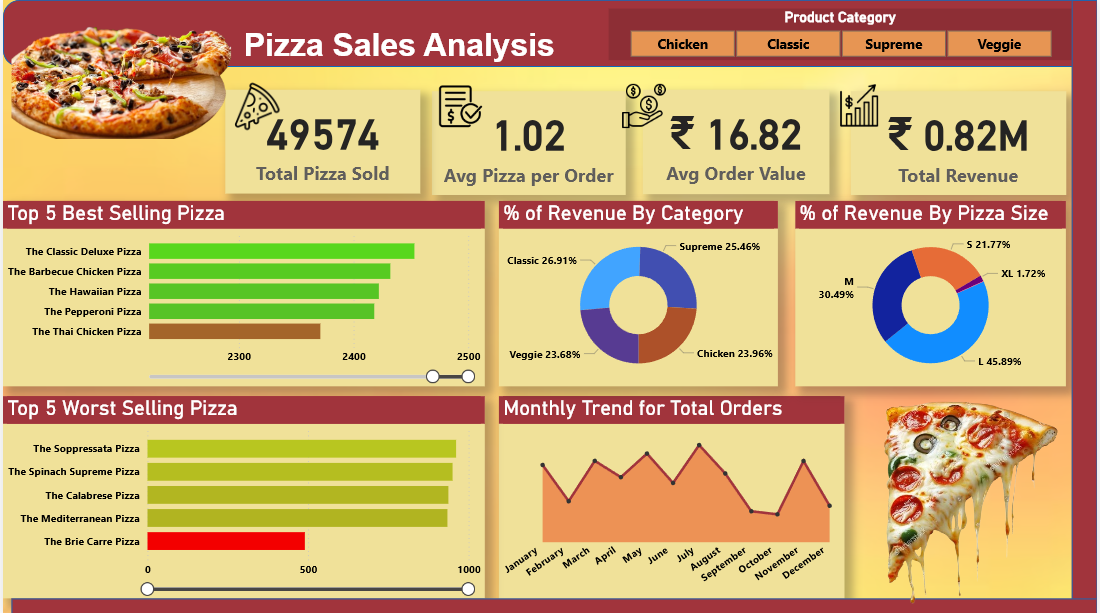

The dashboard page shown, as its layout file describes it:
{"tool":"powerbi","page":{"name":"Analysis","canvas":[1280,720],"ordinal":0},"visuals":[{"type":"shape","box":[0,0,1270,78.3],"z":0},{"type":"textbox","box":[276.7,26.7,403.3,66.7],"z":1000},{"type":"slicer","title":"       Product Category","fields":{"Values":["pizza_sales.pizza_category"]},"box":[708.3,10,541.7,60],"z":2000},{"type":"stackedAreaChart","title":"Monthly Trend for Total Orders","fields":{"Y":["Measure.Total Orders"],"Category":["pizza_sales.order_date.Variation.Date Hierarchy.Month"]},"box":[580,463.7,404.1,236.9],"z":3000},{"type":"card","fields":{"Values":["Measure.Total Revenue"]},"box":[991.7,106.7,251.7,121.7],"z":4000},{"type":"card","fields":{"Values":["Measure.Avg Pizza per Order"]},"box":[501.7,106.7,226.7,121.7],"z":5000},{"type":"card","fields":{"Values":["Measure.Total Pizza Sold"]},"box":[260,105,228.3,121.7],"z":6000},{"type":"card","fields":{"Values":["Measure.Avg Order Value"]},"box":[748.6,104.7,218,122.1],"z":7000},{"type":"clusteredBarChart","title":"Top 5 Best Selling Pizza","fields":{"Y":["Measure.Total Pizza Sold"],"Category":["pizza_sales.pizza_name"]},"box":[0,235,563.3,216.7],"z":8000},{"type":"clusteredBarChart","title":"Top 5 Worst Selling Pizza","fields":{"Y":["Measure.Total Pizza Sold"],"Category":["pizza_sales.pizza_name"]},"box":[0,463.3,563.3,236.7],"z":9000},{"type":"donutChart","title":"% of Revenue By Category","fields":{"Y":["Measure.Total Revenue"],"Category":["pizza_sales.pizza_category"]},"box":[580,235,326.7,216.7],"z":10000},{"type":"donutChart","title":"% of Revenue By Pizza Size","fields":{"Y":["Measure.Total Revenue"],"Category":["pizza_sales.pizza_size"]},"box":[926.7,235,316.7,216.7],"z":11000},{"type":"shape","box":[1250,0,30,710],"z":12000},{"type":"image","box":[5.3,12,266.9,156.1],"z":13000},{"type":"shape","box":[10,700,1270,20],"z":14000},{"type":"image","box":[223.3,48.3,148.3,151.7],"z":15000},{"type":"image","box":[966.7,85.8,69.8,77],"z":16000},{"type":"image","box":[478.3,71.7,113.3,105],"z":17000},{"type":"image","box":[716.6,84.3,65.4,78.5],"z":18000},{"type":"image","box":[988.3,463.3,260,256.7],"z":18001}]}

Visuals, with their boxes in screenshot pixels (x1, y1, x2, y2), scaled from the page's 1280x720 canvas onto the 1100x613 screenshot:
shape: region(0, 0, 1091, 67)
textbox: region(238, 23, 584, 80)
"       Product Category" slicer: region(609, 9, 1074, 60)
"Monthly Trend for Total Orders" stackedAreaChart: region(498, 395, 846, 596)
card - Measure.Total Revenue: region(852, 91, 1069, 194)
card - Measure.Avg Pizza per Order: region(431, 91, 626, 194)
card - Measure.Total Pizza Sold: region(223, 89, 420, 193)
card - Measure.Avg Order Value: region(643, 89, 831, 193)
"Top 5 Best Selling Pizza" clusteredBarChart: region(0, 200, 484, 385)
"Top 5 Worst Selling Pizza" clusteredBarChart: region(0, 394, 484, 596)
"% of Revenue By Category" donutChart: region(498, 200, 779, 385)
"% of Revenue By Pizza Size" donutChart: region(796, 200, 1069, 385)
shape: region(1074, 0, 1099, 604)
image: region(5, 10, 234, 143)
shape: region(9, 596, 1099, 612)
image: region(192, 41, 319, 170)
image: region(831, 73, 891, 139)
image: region(411, 61, 508, 150)
image: region(616, 72, 672, 139)
image: region(849, 394, 1073, 612)
